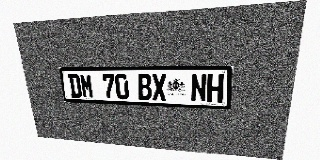0: (114, 74, 129, 100)
7: (101, 74, 116, 99)
B: (137, 74, 152, 100)
D: (68, 74, 82, 98)
H: (207, 74, 224, 103)
M: (79, 74, 94, 99)
N: (191, 74, 207, 102)
X: (152, 74, 167, 101)
